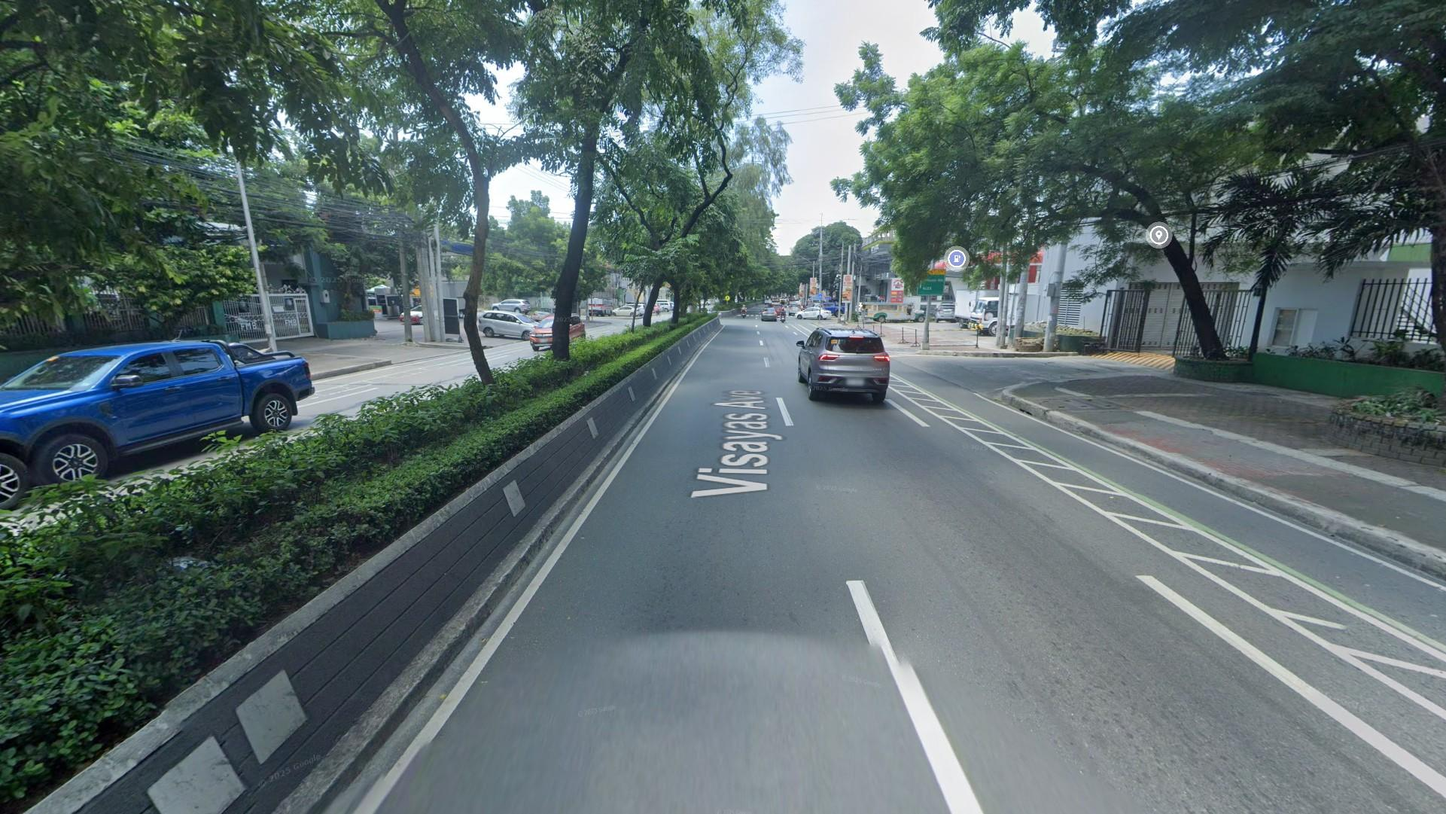cyclist: (653, 303, 662, 317)
